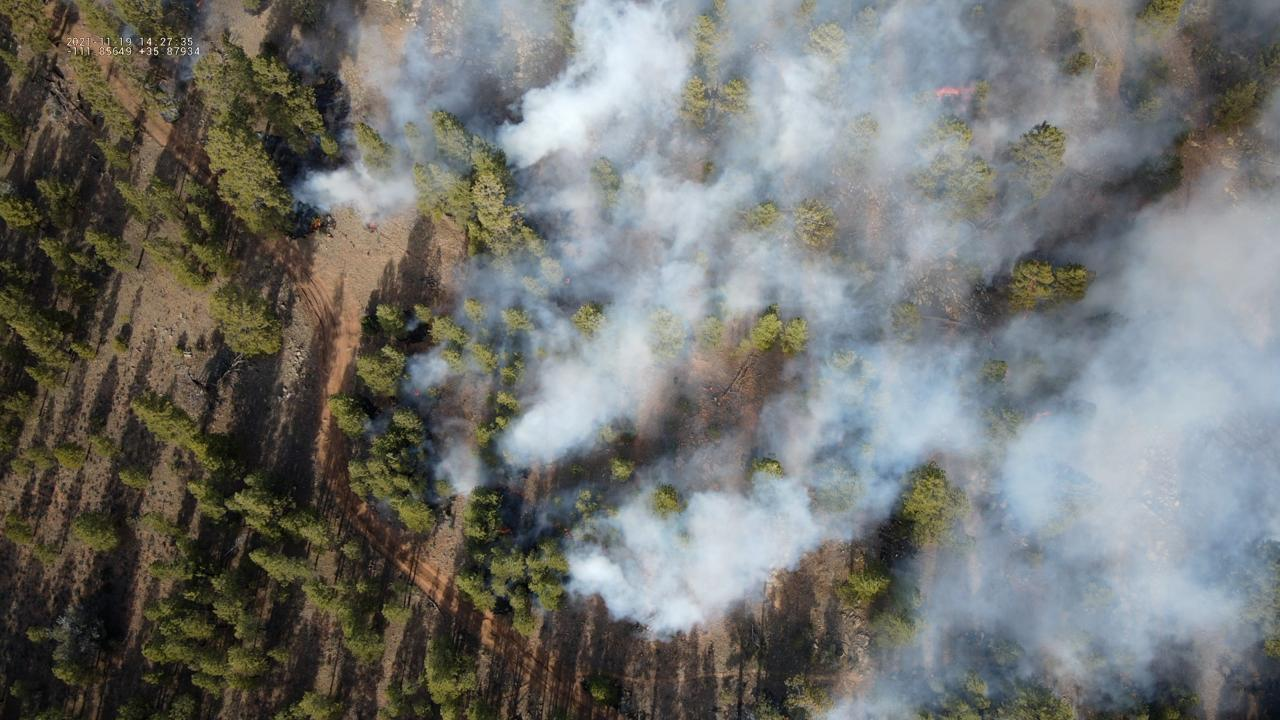fire: (932, 84, 976, 106), (1032, 411, 1053, 422), (311, 216, 323, 230), (195, 0, 204, 10), (412, 388, 421, 397), (500, 528, 512, 534), (563, 277, 571, 285), (369, 222, 377, 229), (564, 528, 569, 536)
smoke: (287, 0, 1280, 720), (176, 0, 219, 92), (118, 25, 139, 42)
